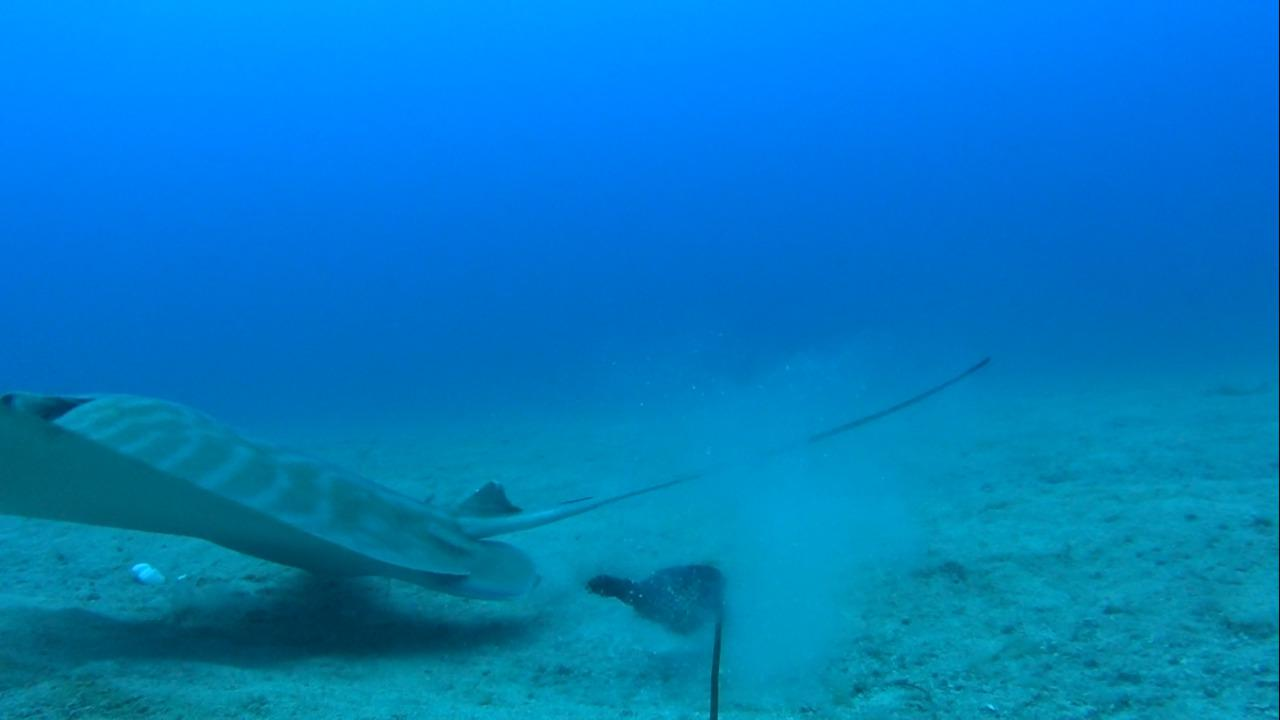myliobatis: (4, 350, 996, 602)
